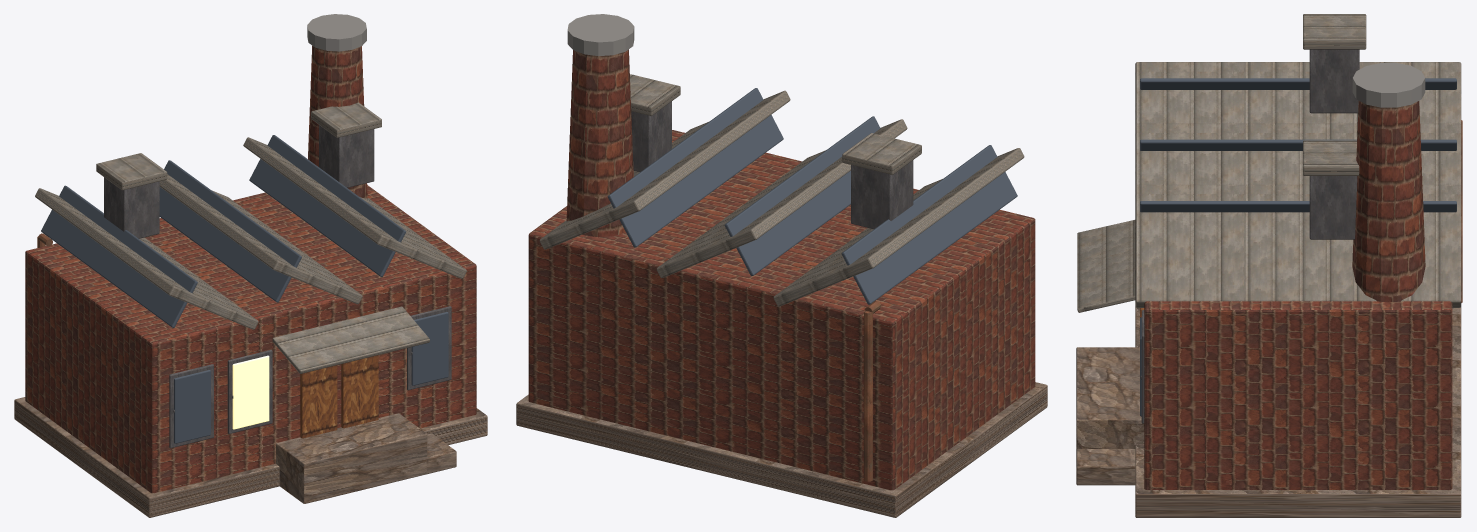
File: factory.glb
3 renders of one model, left to right at view 1: azimuth 30°, elevation 25°; view 2: azimuth 150°, elevation 25°; view 3: azimuth 270°, elevation 25°, orthographic. The views are drawn at different scales.
Visible parts, largest first — view 1: wallsUpper, wallsLower, dock, footing, roofGlass.002, roofGlass, roofGlass.001, canopy, roofTooth, roofTooth.002, roofTooth.001, chimney (+14 smaller); view 2: wallsUpper, wallsLower, footing, chimney, roofGlass.002, roofGlass, roofGlass.001, roofTooth, roofTooth.001, roofTooth.002, ventStack, chimneyCap (+4 smaller); view 3: wallsUpper, roofTooth.002, wallsLower, chimney, roofTooth, roofTooth.001, footing, dock, canopy, ventStack, ventStack.001, chimneyCap (+7 smaller).
Part boxes in pixels (<box>): wallsUpper: <box>25,185,476,445</box>; wallsLower: <box>25,353,476,493</box>; dock: <box>276,413,427,503</box>; footing: <box>14,397,487,517</box>; roofGlass.002: <box>249,135,406,276</box>; roofGlass: <box>41,185,197,327</box>; roofGlass.001: <box>159,160,301,302</box>; canopy: <box>272,306,429,373</box>; roofTooth: <box>35,188,258,329</box>; roofTooth.002: <box>243,137,466,278</box>; roofTooth.001: <box>159,174,362,304</box>; chimney: <box>308,45,367,198</box>; wallsUpper: <box>528,130,1035,436</box>; wallsLower: <box>528,333,1035,490</box>; footing: <box>516,382,1047,517</box>; chimney: <box>566,49,633,237</box>; roofGlass.002: <box>607,88,783,247</box>; roofGlass: <box>841,145,1017,304</box>; roofGlass.001: <box>724,116,880,275</box>; roofTooth: <box>773,148,1024,306</box>; roofTooth.001: <box>656,119,907,277</box>; roofTooth.002: <box>539,90,790,249</box>; ventStack: <box>851,160,913,229</box>; chimneyCap: <box>567,14,634,56</box>; wallsUpper: <box>1144,301,1452,432</box>; roofTooth.002: <box>1135,184,1461,307</box>; wallsLower: <box>1144,432,1452,489</box>; chimney: <box>1352,101,1425,301</box>; roofTooth: <box>1135,62,1461,124</box>; roofTooth.001: <box>1135,123,1461,185</box>; footing: <box>1135,306,1461,517</box>; dock: <box>1076,347,1144,449</box>; canopy: <box>1077,220,1135,312</box>; ventStack: <box>1309,49,1359,113</box>; ventStack.001: <box>1309,176,1357,239</box>; chimneyCap: <box>1352,63,1425,107</box>.
Size of the model in its own units: 5.2 by 5.04 by 4.26.
Materials: 12 (9 with a texture image).
